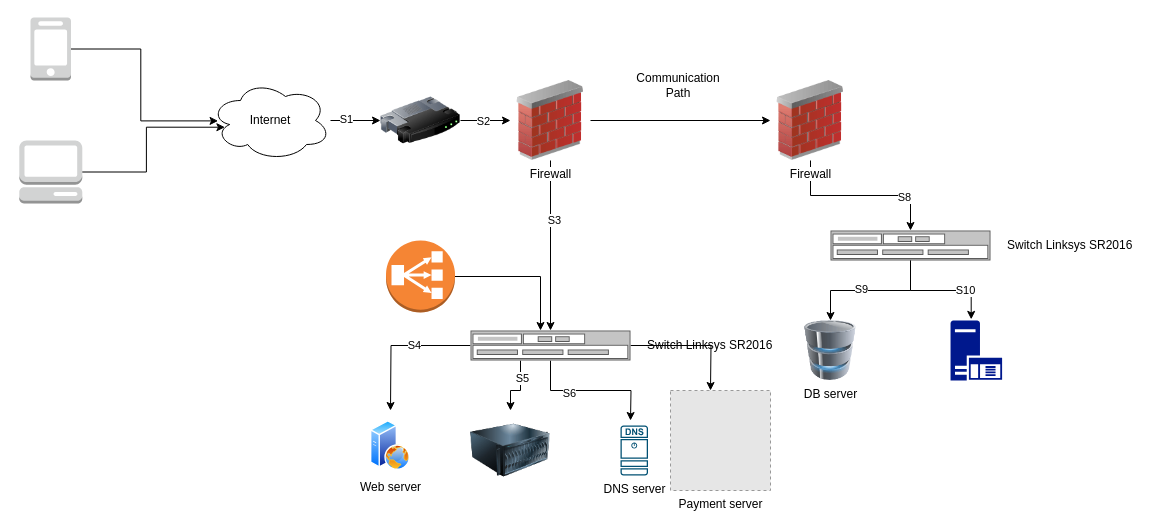
This 1150x529 diagram has some shape labels left out. Grey dashed boxes stand in for pictures. The shapes that lost their labels are listed below. From the top down, each one's box as (x1, y1, x2, y2) in pixels, then its label:
(30, 16, 71, 80): Mobile client
(380, 80, 460, 160): Router Cisco 7613
(18, 140, 82, 204): PC client
(470, 410, 550, 490): Email Server
